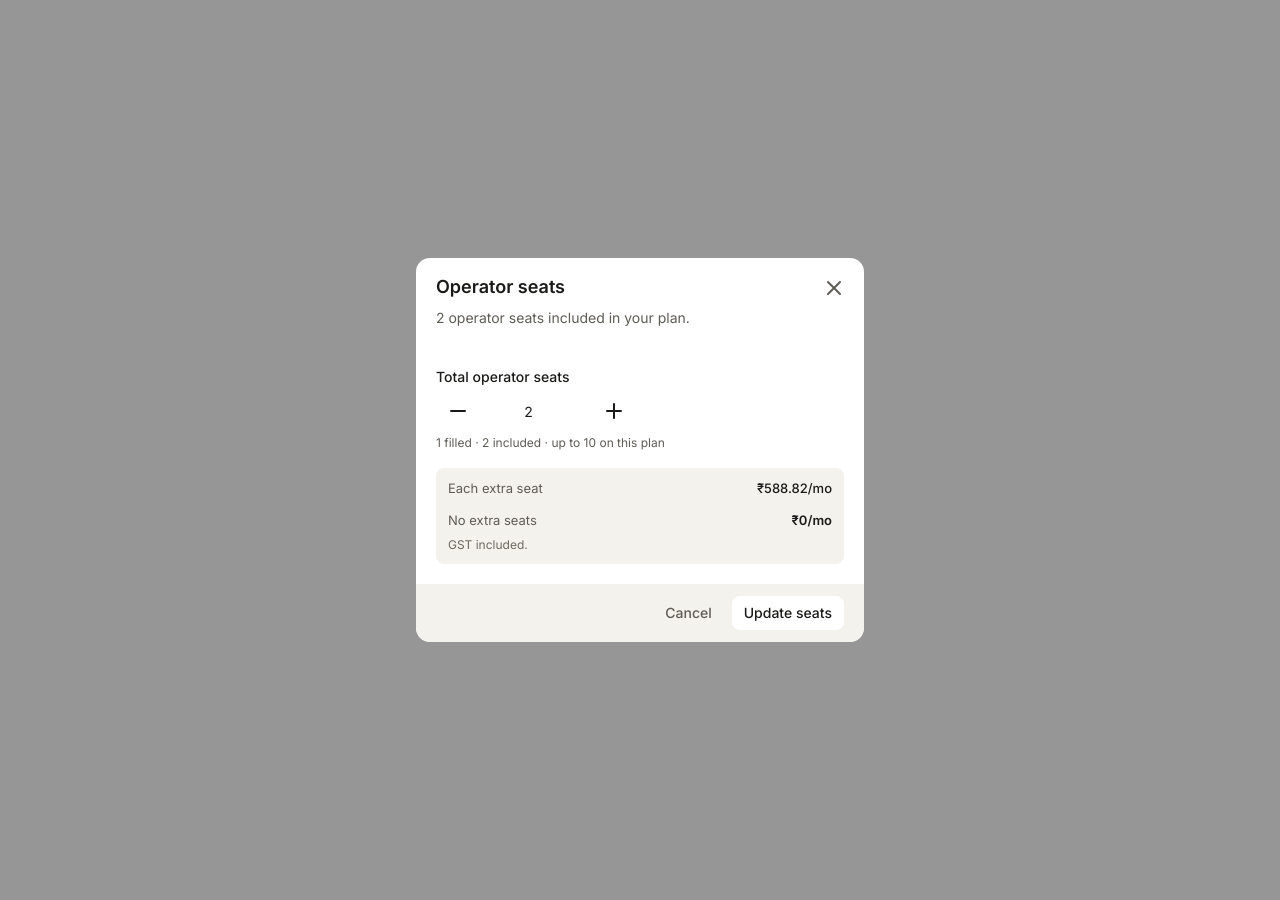
Test: the cancelled-purchase notice › clears as soon as the count is edited again
Replace the text in the number field with "3" at [536, 411], box [488, 394, 584, 428]
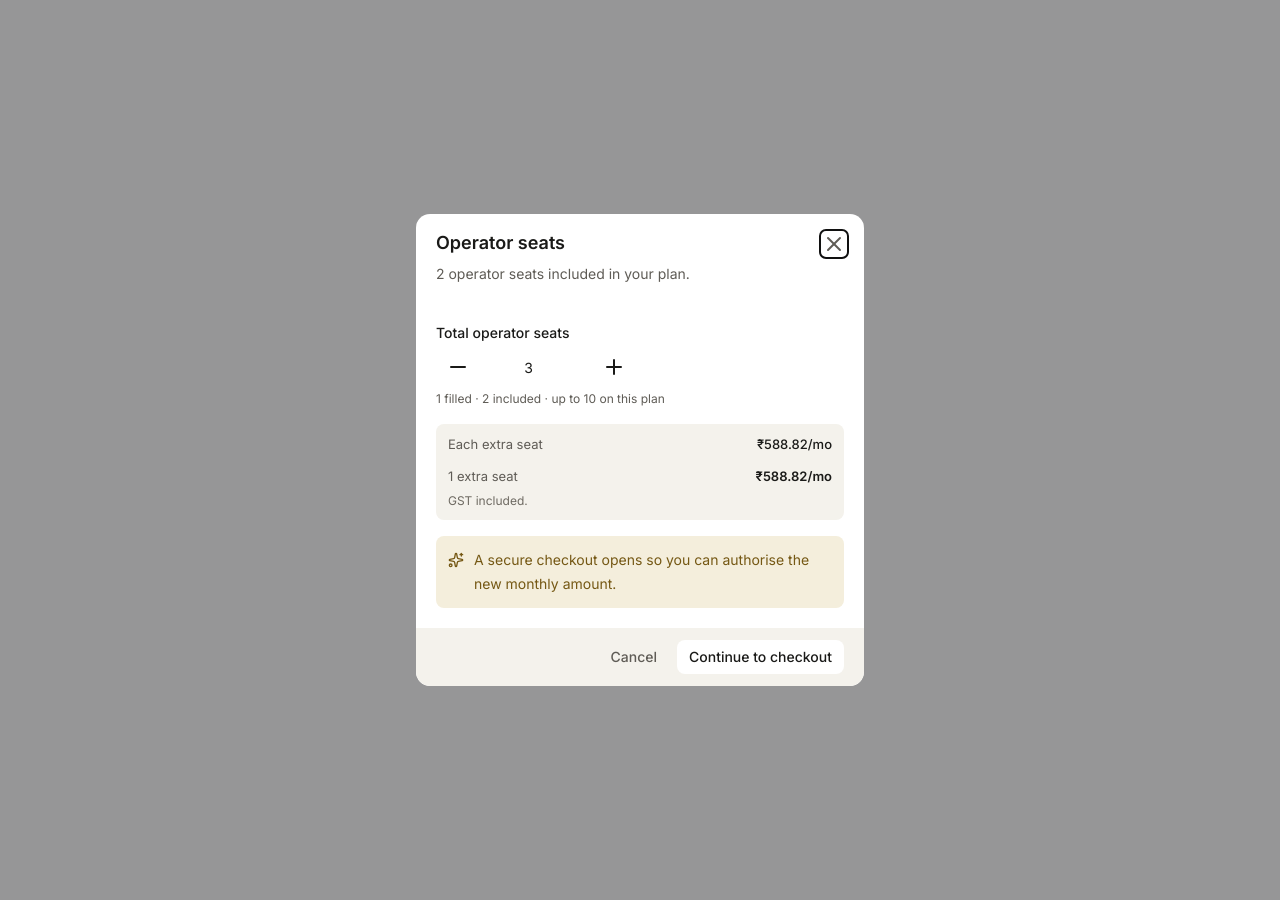
Click the button "Continue to checkout" at [760, 657], box [677, 640, 844, 674]
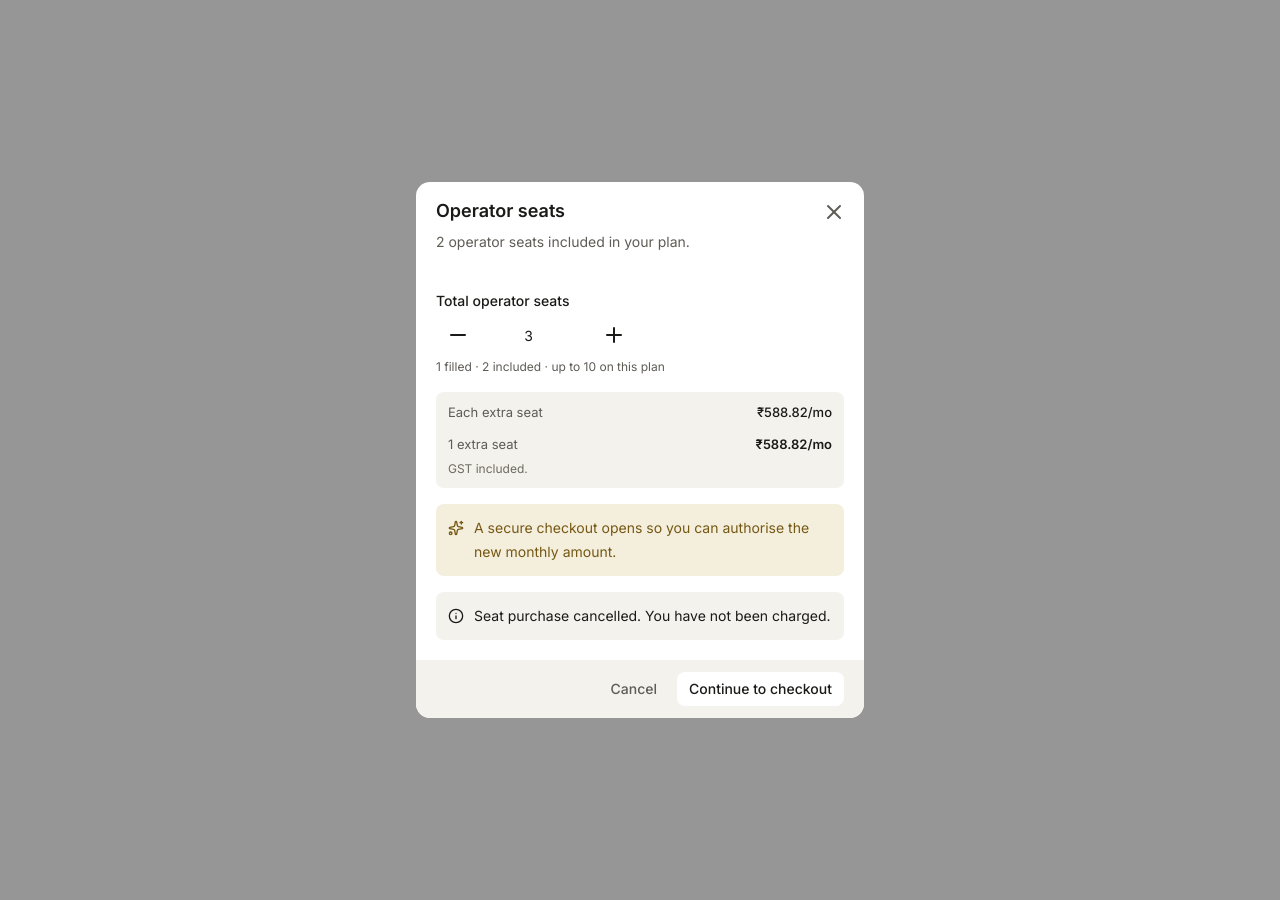
Result: the text "Seat purchase cancelled. You have not been charged." is shown at [474, 604, 832, 628]
Replace the text in the number field with "4" at [536, 335], box [488, 318, 584, 352]
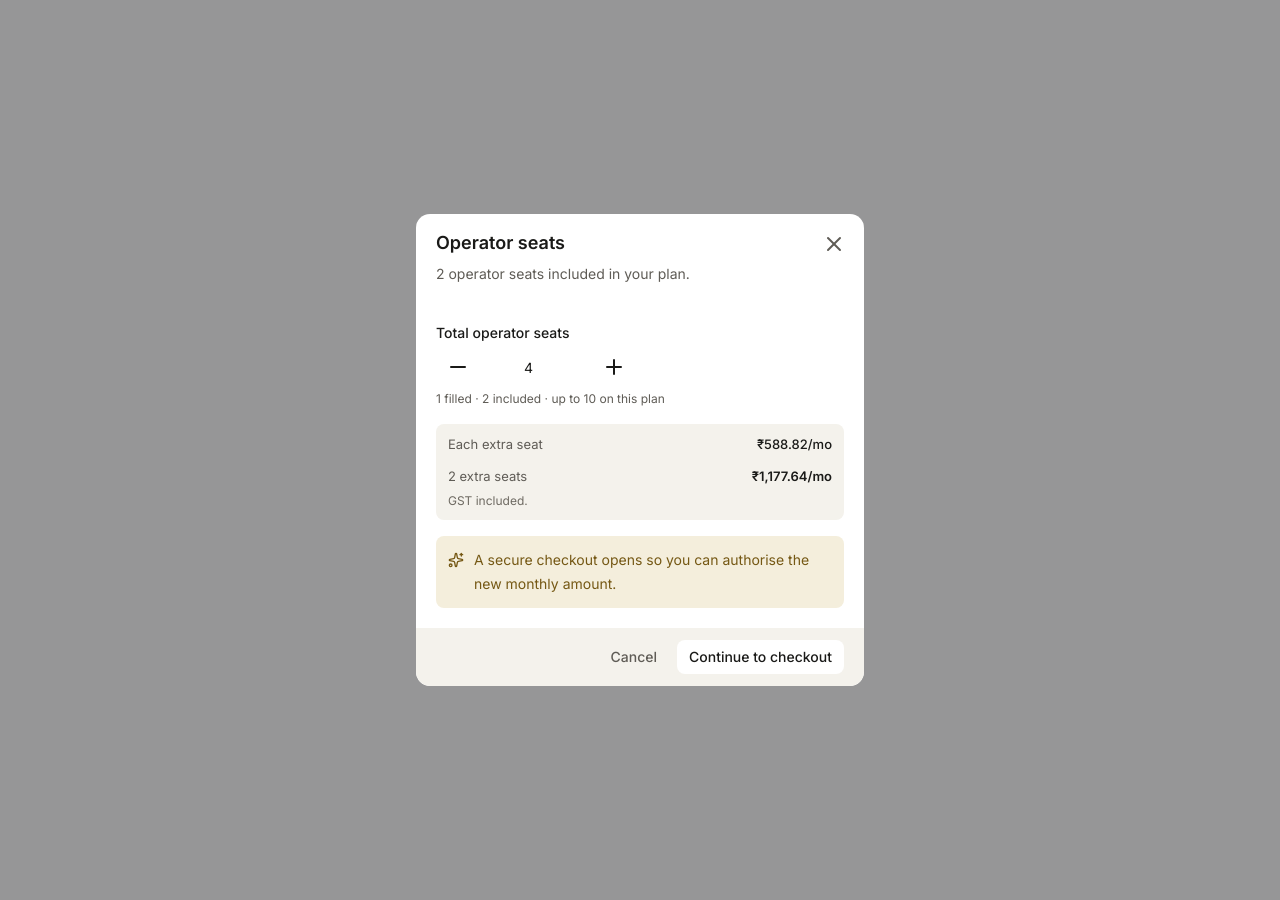
Result: the text "not been charged" is gone
